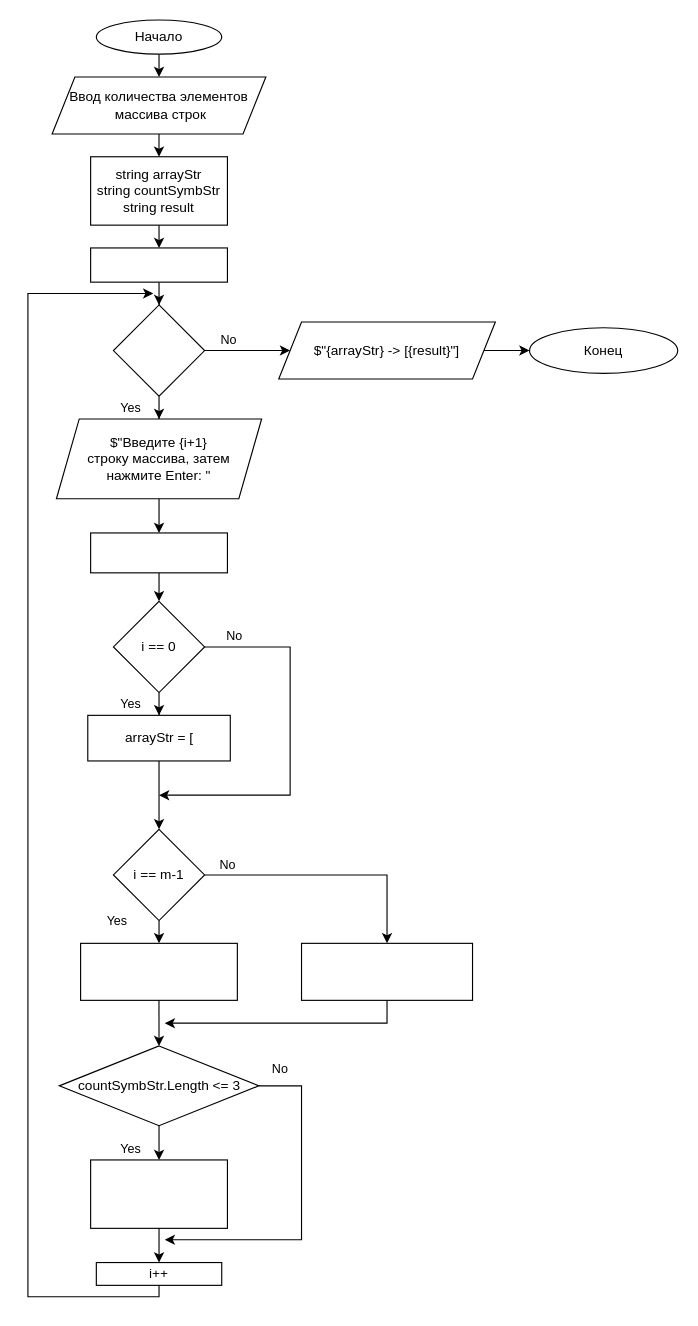
This 698x1326 diagram has some shape labels left out. Here are the shapes that lost their labels. From the top down, the centre of each, then its label:
(158,264): int i = 0;
(158,350): i < m
(158,552): countSymbStr = ReadLine()
(158,971): arrayStr = $"{arrayStr}\"{countSymbStr}\"]"
(386,971): arrayStr = $"{arrayStr}\"{countSymbStr}\","
(158,1193): result = $"{result}\"{countSymbStr}\"'
